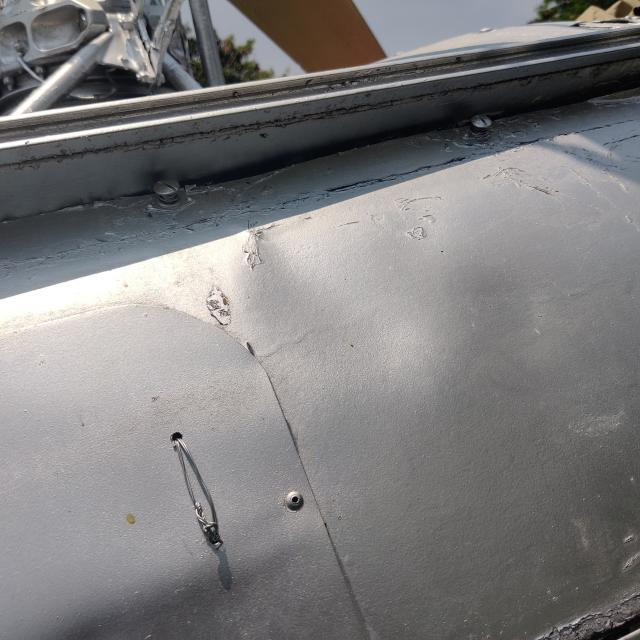dent: (205, 201, 429, 416)
